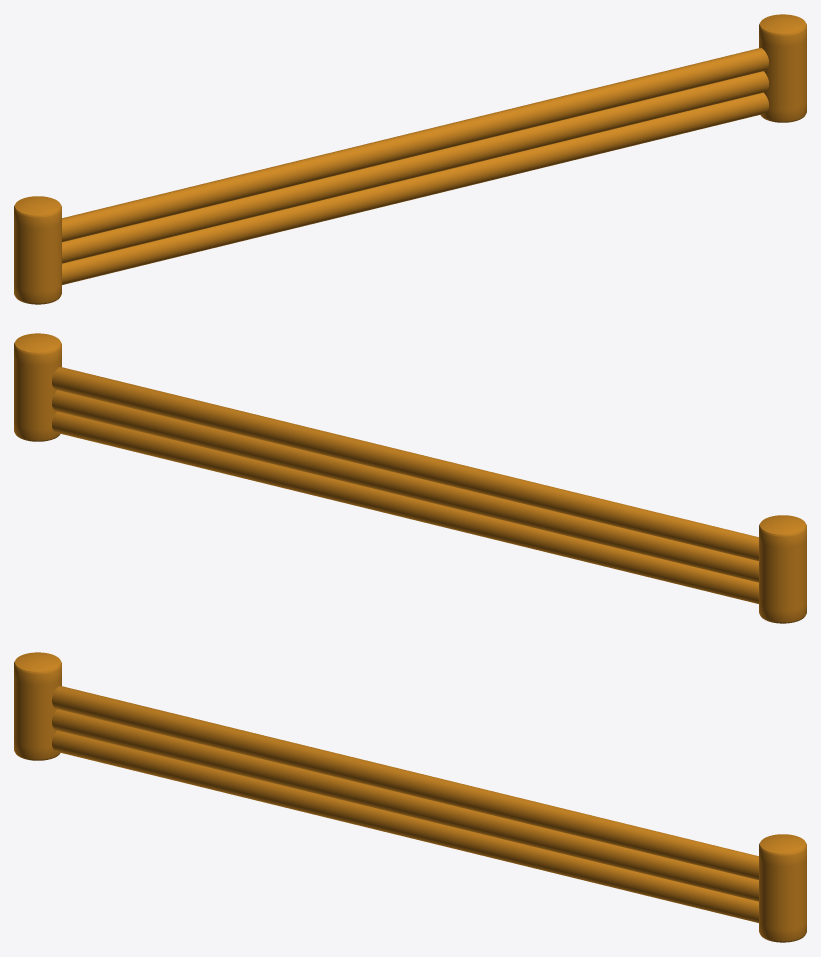
The model's file is Hangrao 1.fbx.
3 views of the same model, one above another, from view 1: azimuth 30°, elevation 25°; view 2: azimuth 150°, elevation 25°; view 3: azimuth 330°, elevation 25° (orthographic).
Parts seen in each view (by area): view 1: OilTank002, OilTank004, OilTank003, OilTank001, OilTank005; view 2: OilTank002, OilTank004, OilTank003, OilTank001, OilTank005; view 3: OilTank002, OilTank004, OilTank003, OilTank005, OilTank001.
Boxes of the visible parts, x1,y1,x2,y2 form: OilTank002: (62, 48, 768, 242); OilTank004: (62, 92, 768, 284); OilTank003: (62, 71, 768, 263); OilTank001: (14, 196, 61, 304); OilTank005: (759, 14, 806, 122); OilTank002: (52, 367, 758, 561); OilTank004: (52, 411, 758, 603); OilTank003: (52, 390, 758, 582); OilTank001: (759, 515, 806, 623); OilTank005: (14, 333, 61, 441); OilTank002: (52, 686, 758, 880); OilTank004: (52, 730, 758, 922); OilTank003: (52, 709, 758, 901); OilTank005: (759, 834, 806, 942); OilTank001: (14, 652, 61, 760).
Bounding box in the file's own units: 35.06 × 4.01 × 1.85.
